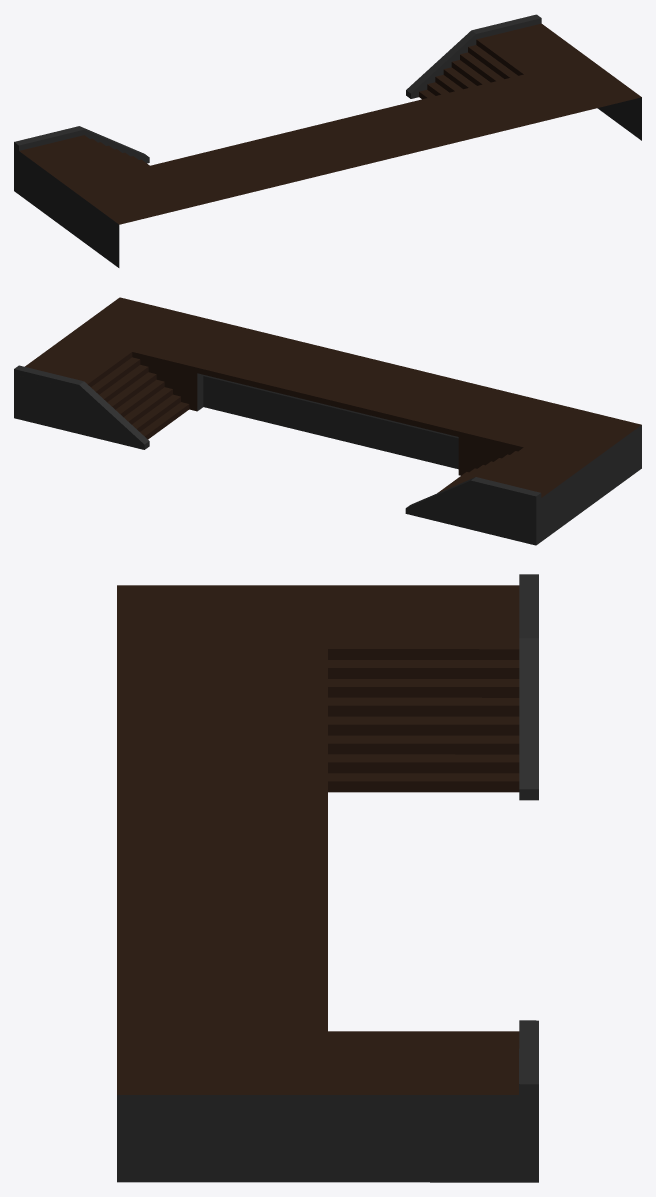
Rendered from Theatre Stage.FBX.
3 views of the same model, one above another, from view 1: azimuth 30°, elevation 25°; view 2: azimuth 150°, elevation 25°; view 3: azimuth 270°, elevation 25° (orthographic). The views are drawn at different scales.
Visible parts, largest first — view 1: Stage Stairs; view 2: Stage Stairs; view 3: Stage Stairs.
Boxes of the visible parts, x1,y1,x2,y2 form: Stage Stairs: (14, 14, 641, 267); Stage Stairs: (14, 297, 641, 545); Stage Stairs: (117, 574, 538, 1182).
Size of the model in its own units: 25.02 by 2.25 by 8.75.
